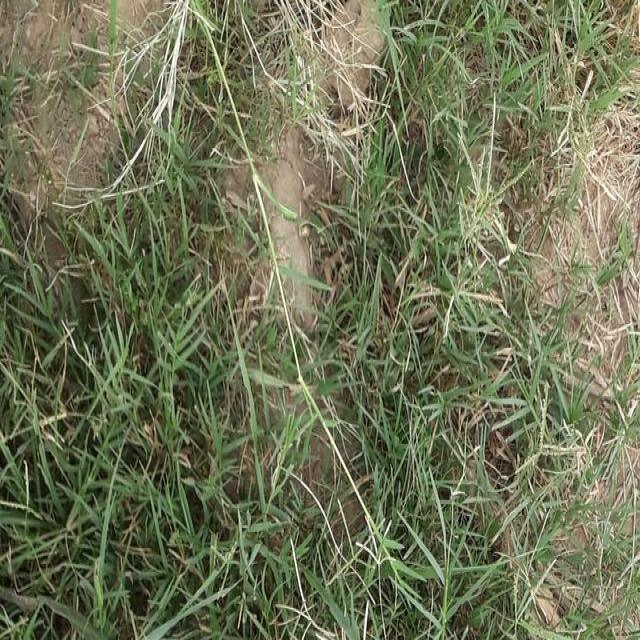weed: (3, 238, 291, 617), (386, 177, 528, 600)
